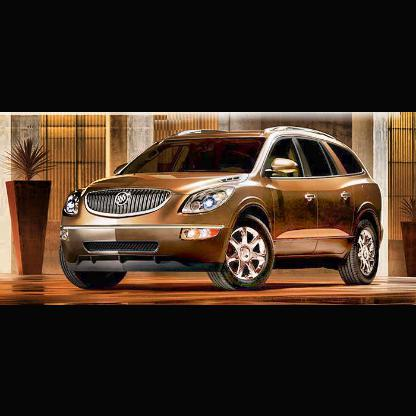Buick Enclave SUV 2012: (59, 125, 387, 291)
